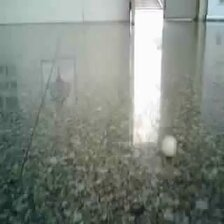w: (161, 134, 179, 157)
